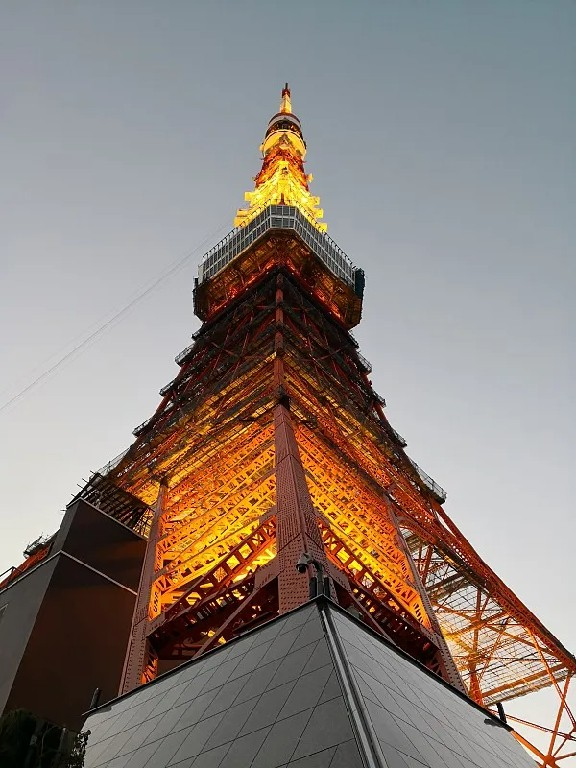Tokyo: (115, 104, 576, 768)
